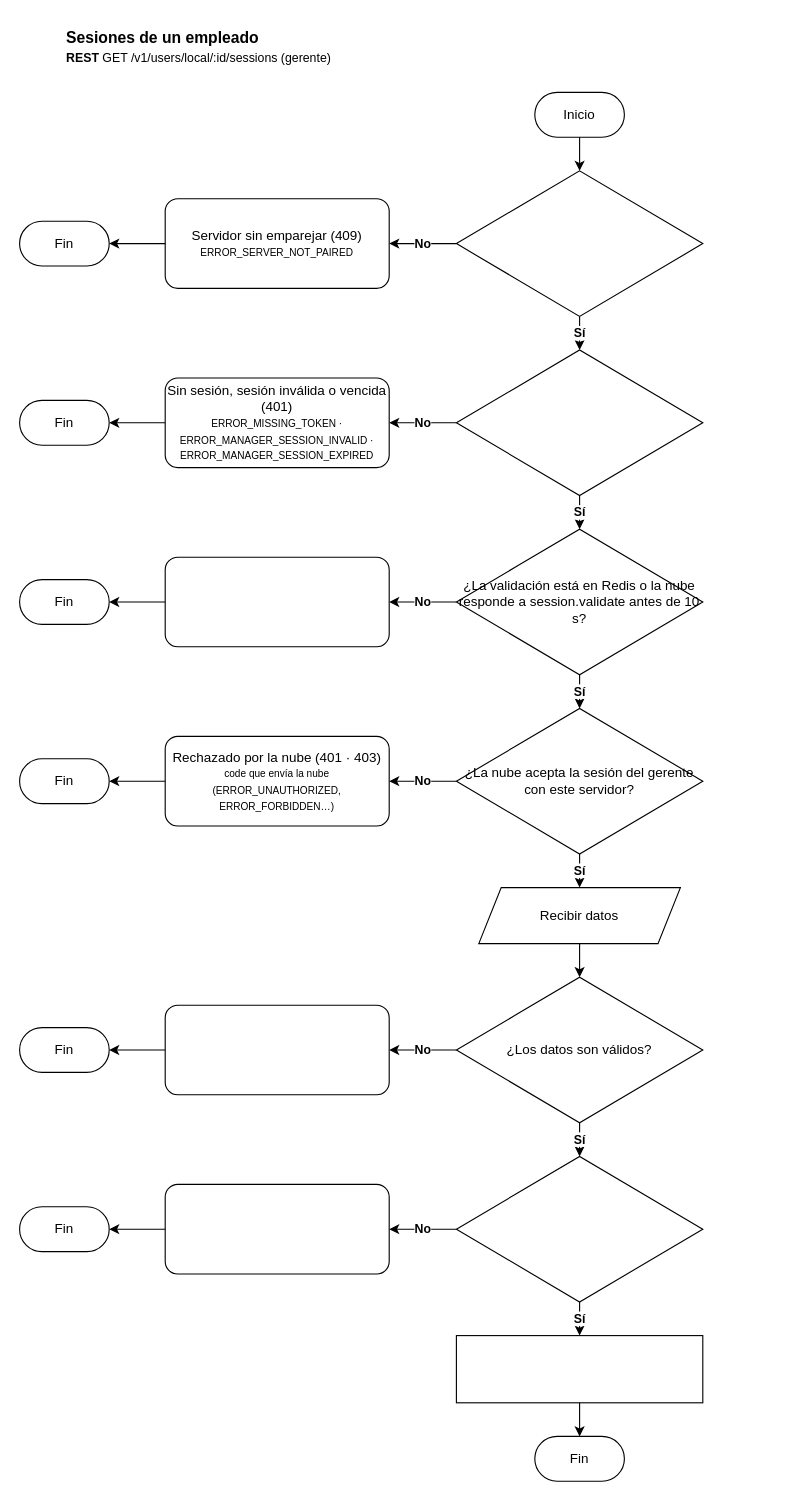
The diagram is 801 pixels wide and 1501 high, and some of its shapes have lost their labels. Here are the shapes that lost their labels. From the top down, the centre of each, then its label:
At (x=579, y=243): "¿El servidor ya se emparejó alguna vez (pairing_status distinto de unpaired)?".
At (x=579, y=422): "¿Trae una sesión de gerente válida (Bearer mss_..., sin 30 min de inactividad)?".
At (x=276, y=601): "La nube no responde (503) ERROR_CLOUD_UNAVAILABLE · ERROR_SERVER_UNLINKED".
At (x=276, y=1049): "Datos inválidos (400) ERROR_BAD_REQUEST".
At (x=276, y=1228): "El usuario no existe (404) ERROR_USER_NOT_EXIST".
At (x=579, y=1228): "¿Existe el empleado?".
At (x=579, y=1368): "Responder 200 con el mensaje SESSIONS_RETRIEVED".
